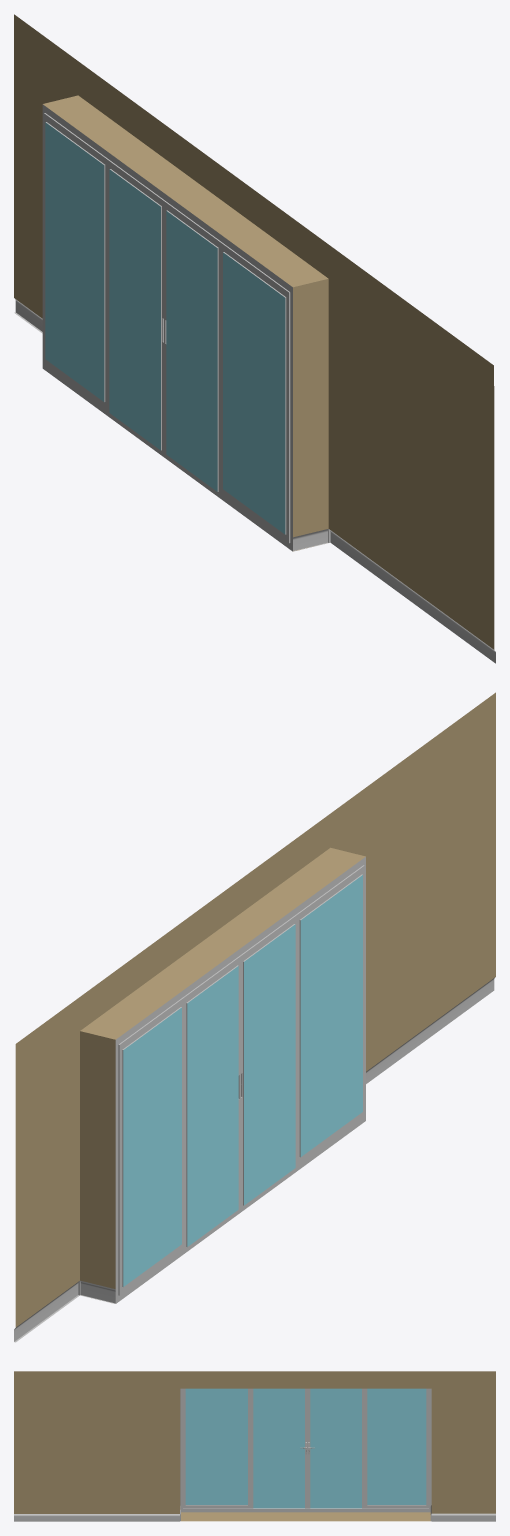
Rendered from frenchwindow.FBX.
The picture shows the model from 3 angles, top to bottom: view 1: azimuth 30°, elevation 25°; view 2: azimuth 150°, elevation 25°; view 3: azimuth 270°, elevation 25°; orthographic projection. The views are drawn at different scales.
Visible parts, largest first — view 1: Right handle; view 2: Right handle; view 3: Right handle.
Part boxes in pixels (bbox=[...]): Right handle: bbox=[14, 14, 495, 663]; Right handle: bbox=[14, 692, 495, 1342]; Right handle: bbox=[14, 1371, 495, 1521].
Size of the model in its own units: 335 by 2400 by 6995.
